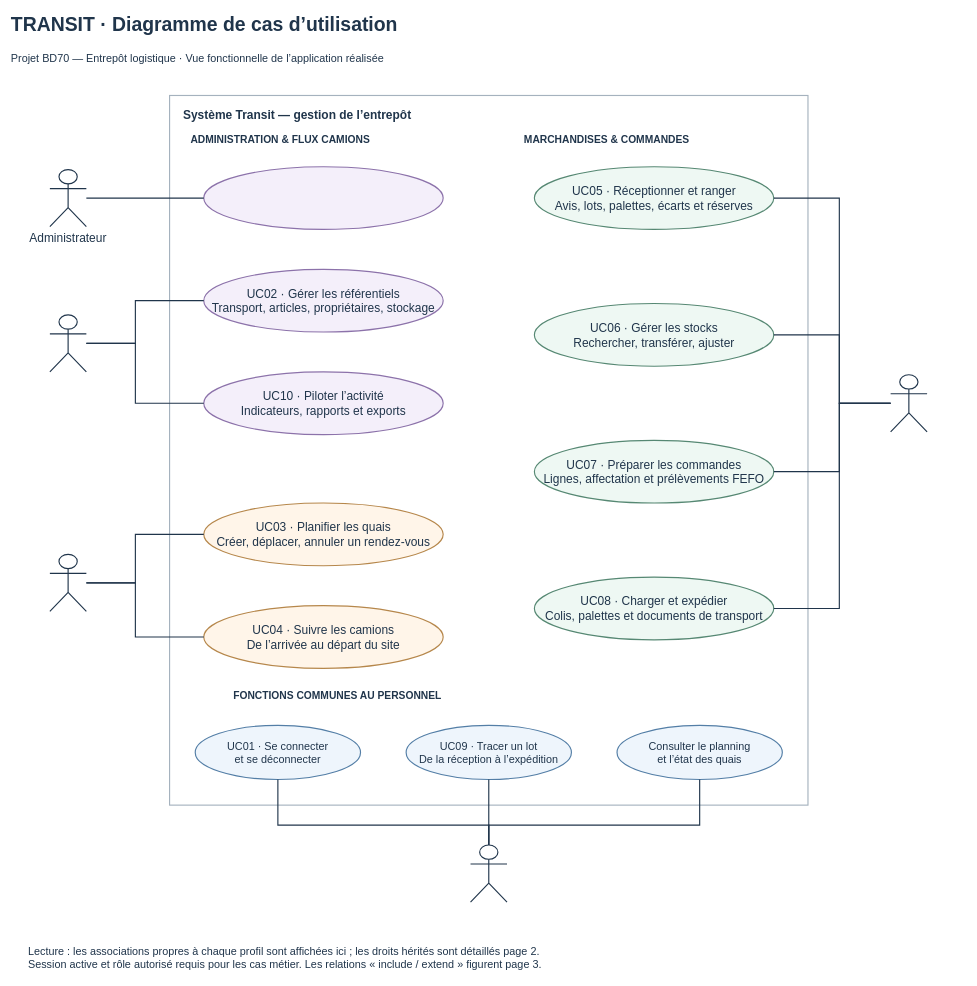
This 977x986 diagram has some shape labels left out. Here are the shapes that lost their labels. From the top down, the box of each, then its label:
(203, 166, 443, 230): UC11 · Administrer les comptes Activer, attribuer un rôle, désactiver
(49, 314, 87, 372): Responsable d’exploitation
(890, 374, 927, 432): Magasinier / préparateur
(49, 553, 87, 612): Agent d’accueil
(470, 844, 507, 902): Personnel (acteur général)
